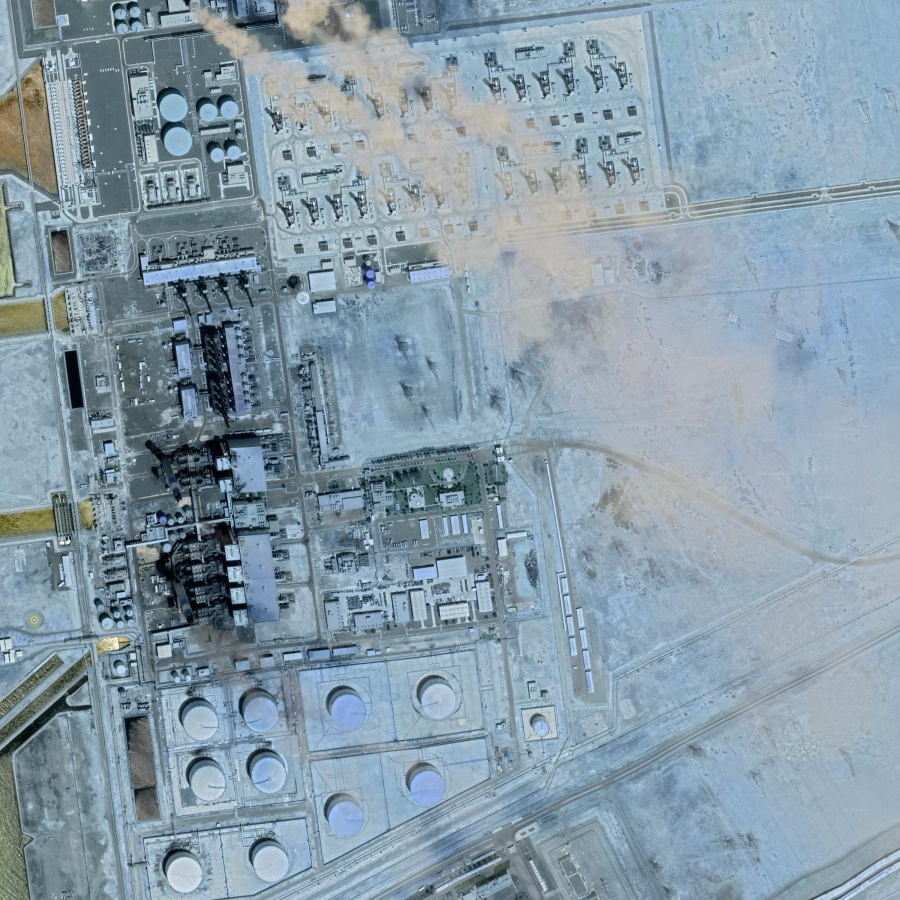PowerPlant: (92, 312, 314, 628)
